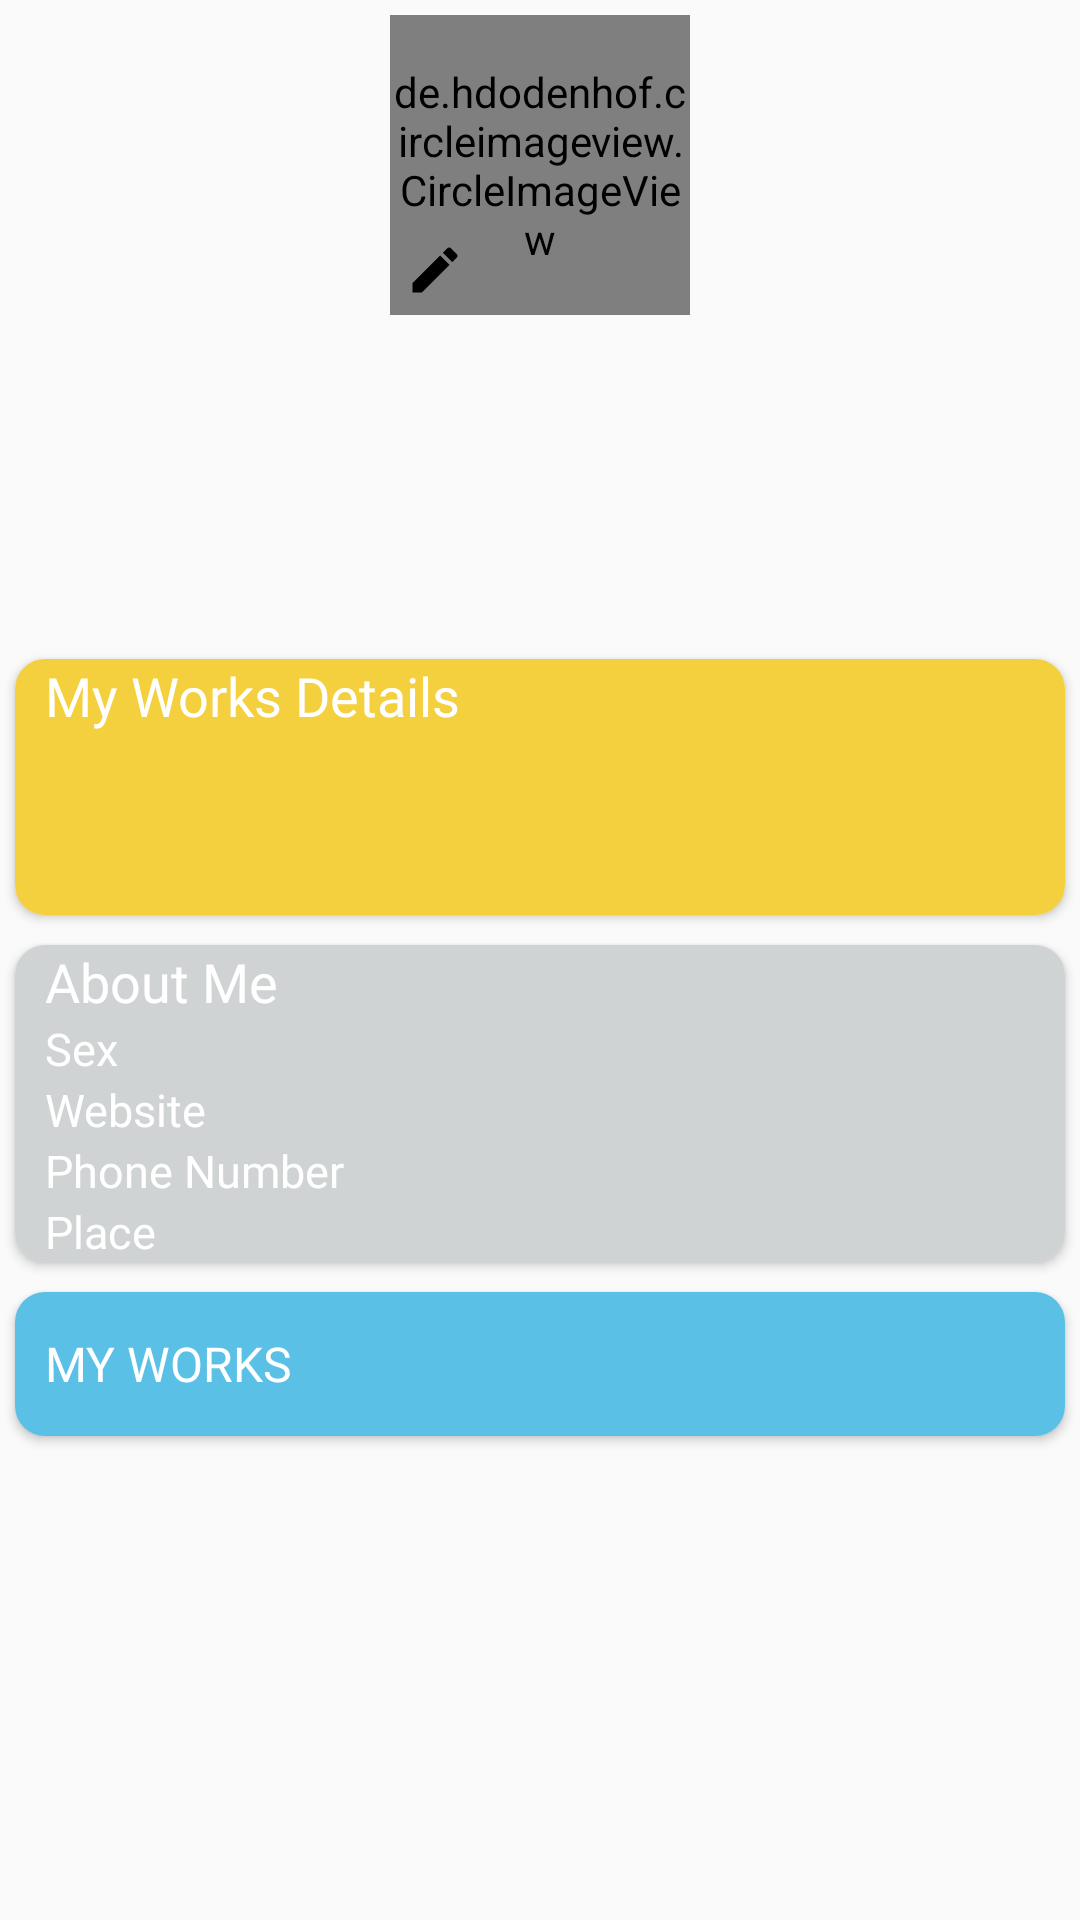

Screen size 1080px x 1920px. Icon name, then its box in pixels as (x1, y1, x2, y2):
edit: (412, 247, 458, 293)
